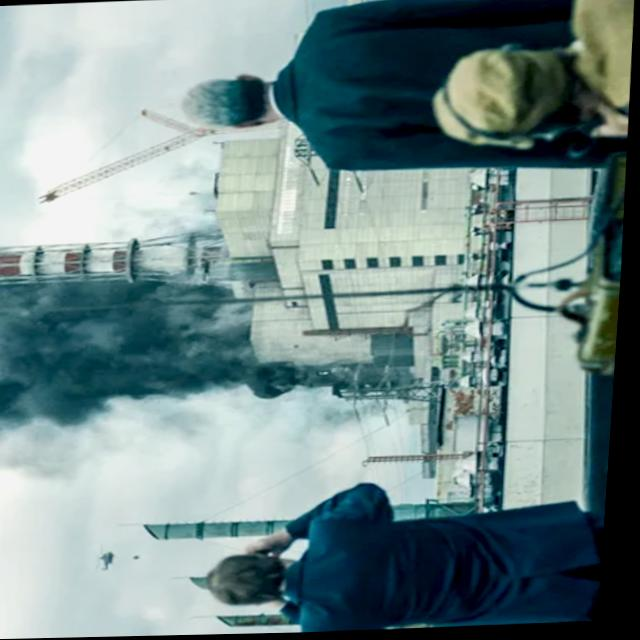no_helmet: (0, 272, 265, 410)
